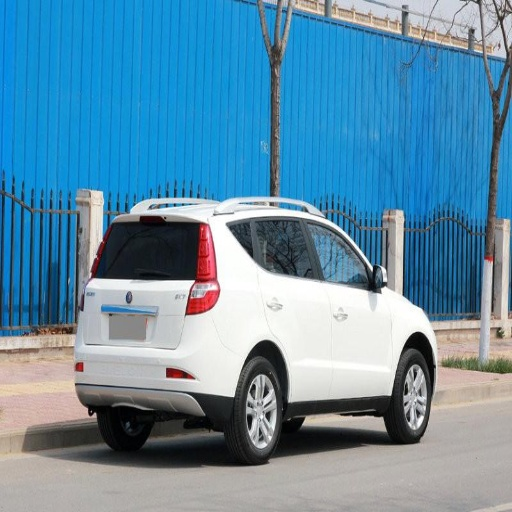back_bumper: (73, 310, 246, 417)
back_right_door: (254, 216, 329, 396)
tailgate: (79, 279, 183, 344)
trunk: (85, 283, 192, 352)
